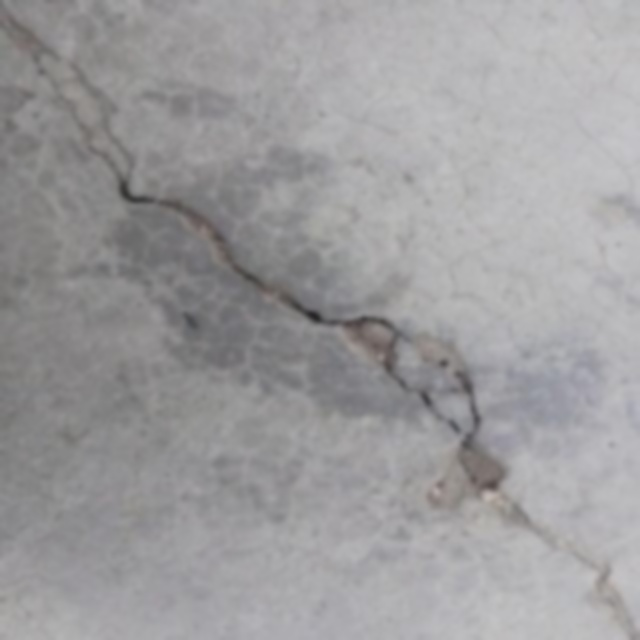SurfaceCrack: (8, 22, 640, 640)
